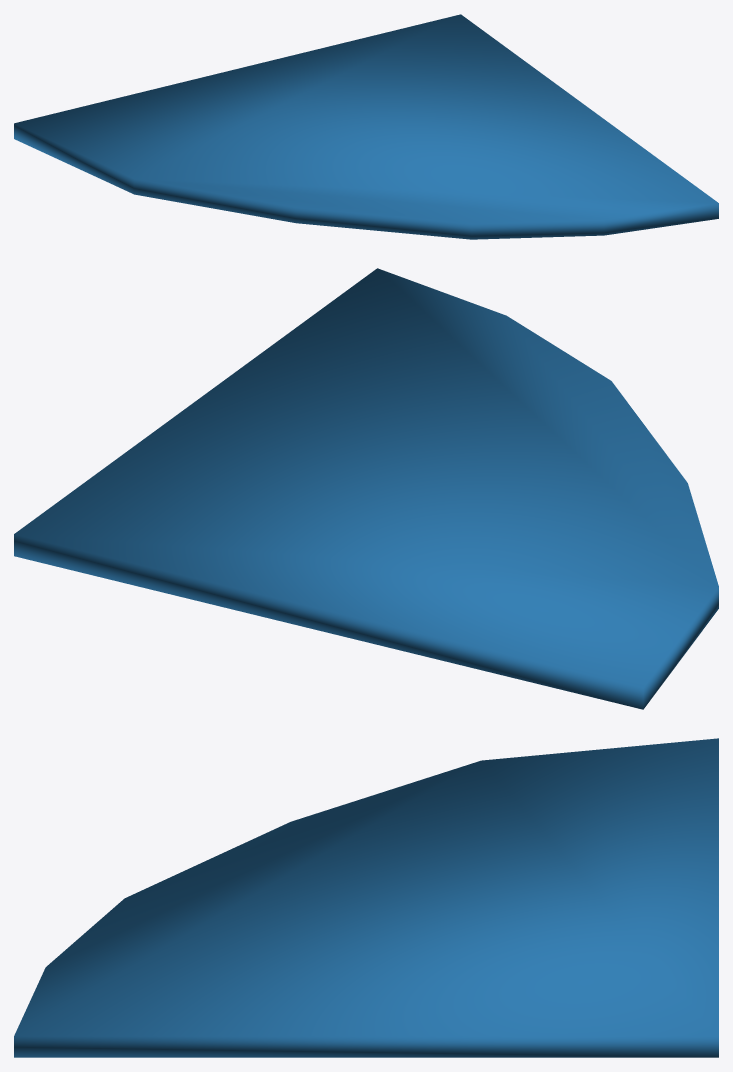
Rendered from RugCurve.fbx.
The picture shows the model from 3 angles, top to bottom: view 1: azimuth 30°, elevation 25°; view 2: azimuth 150°, elevation 25°; view 3: azimuth 270°, elevation 25°; orthographic projection. The views are drawn at different scales.
Parts seen in each view (by area): view 1: RugCurve:Box002; view 2: RugCurve:Box002; view 3: RugCurve:Box002.
Boxes of the visible parts, x1,y1,x2,y2 form: RugCurve:Box002: (14, 14, 718, 239); RugCurve:Box002: (14, 268, 718, 709); RugCurve:Box002: (14, 738, 718, 1057).
Bounding box in the file's own units: 39.37 × 1.32 × 39.37.
